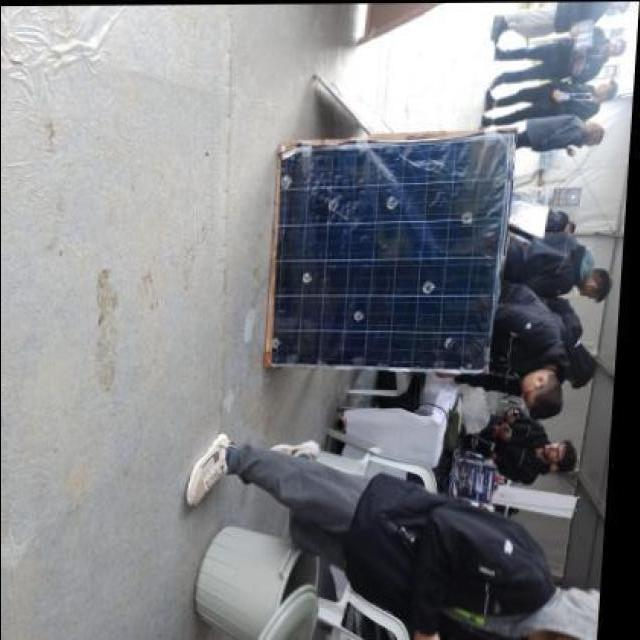soiled: (264, 124, 516, 376)
